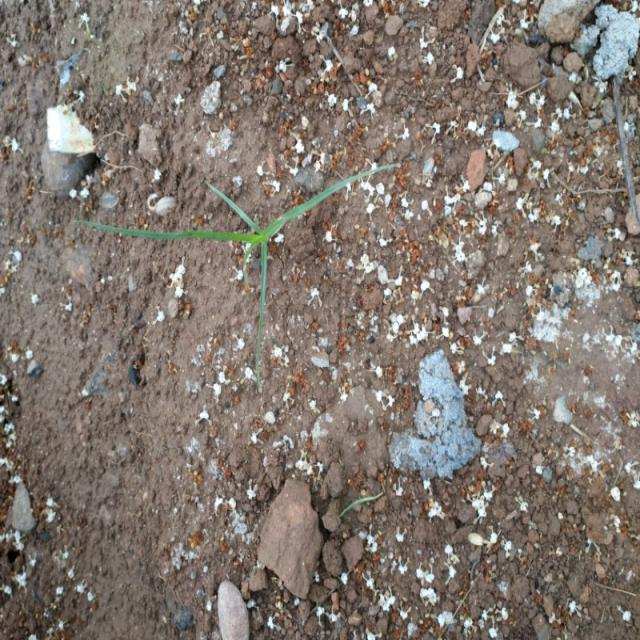sedge: (72, 129, 396, 358)
